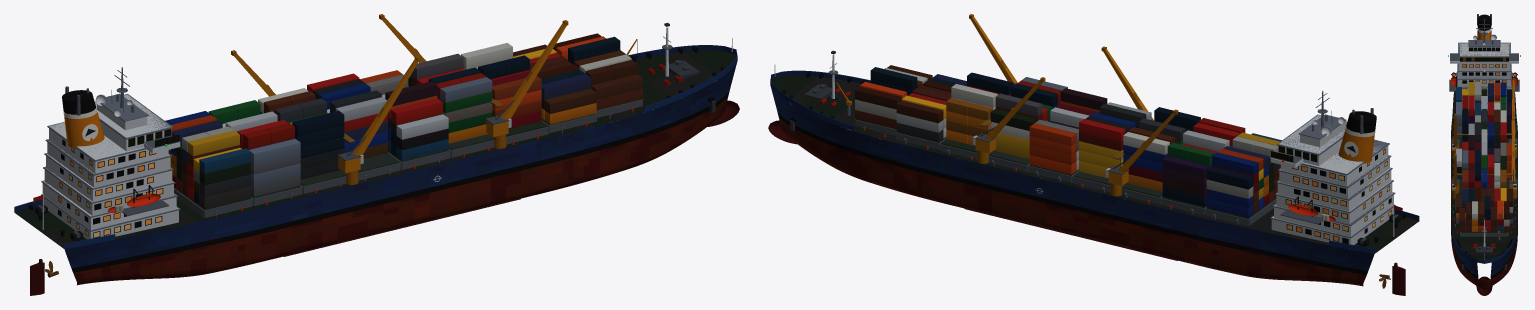
Rendered from ship-lo.glb.
3 renders of one model, left to right at view 1: azimuth 30°, elevation 25°; view 2: azimuth 150°, elevation 25°; view 3: azimuth 270°, elevation 25°, orthographic. The views are drawn at different scales.
Parts seen in each view (by area): view 1: containers, hull, upper, deck, lit; view 2: containers, hull, upper, deck, lit; view 3: containers, upper, deck, hull, lit.
Part boxes in pixels (bbox=[...]): containers: bbox=[165, 33, 642, 208]; hull: bbox=[30, 62, 739, 295]; upper: bbox=[14, 14, 737, 248]; deck: bbox=[15, 50, 736, 248]; lit: bbox=[58, 129, 179, 237]; containers: bbox=[855, 65, 1281, 217]; hull: bbox=[768, 86, 1405, 295]; upper: bbox=[770, 14, 1419, 253]; deck: bbox=[771, 75, 1419, 253]; lit: bbox=[1271, 146, 1391, 243]; containers: bbox=[1456, 82, 1512, 231]; upper: bbox=[1449, 14, 1519, 270]; deck: bbox=[1451, 91, 1517, 263]; hull: bbox=[1451, 209, 1517, 295]; lit: bbox=[1448, 47, 1520, 89].
Bounding box in the file's own units: 185 × 51.49 × 29.75.
